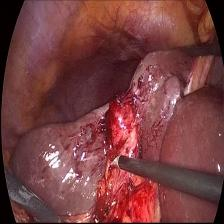Hook: (108, 153, 121, 174)
